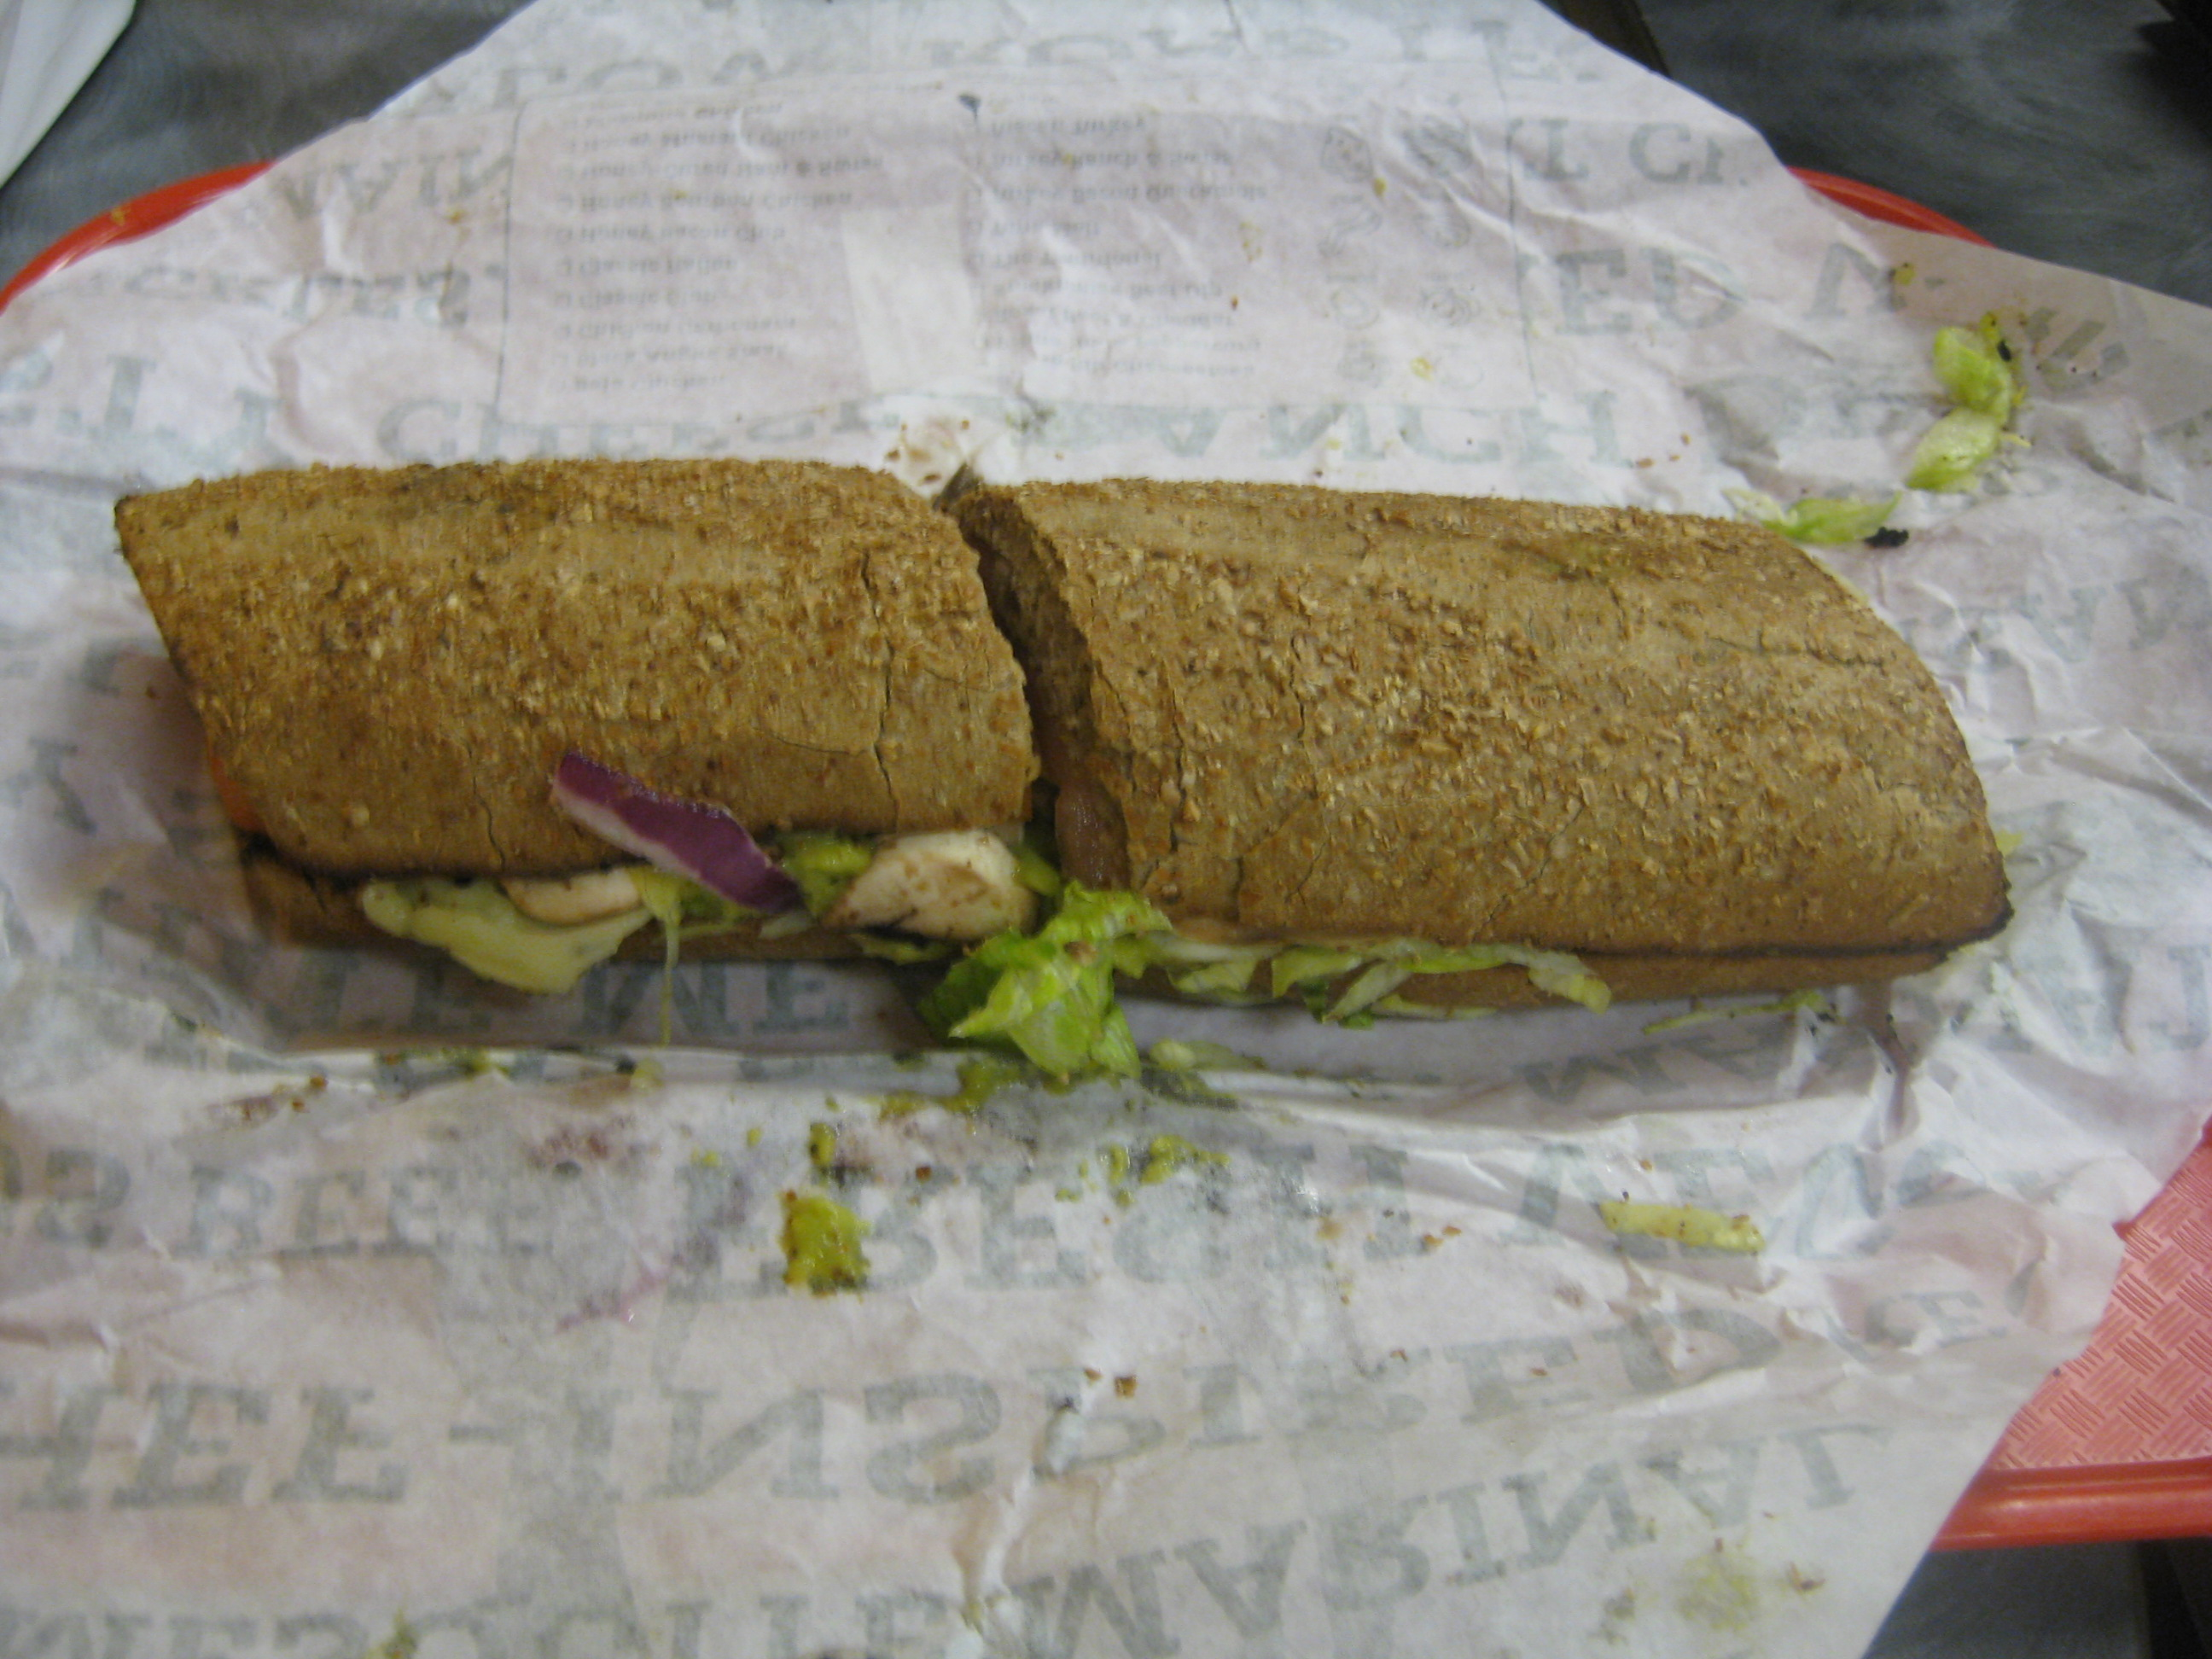sub: (84, 400, 2047, 1090)
